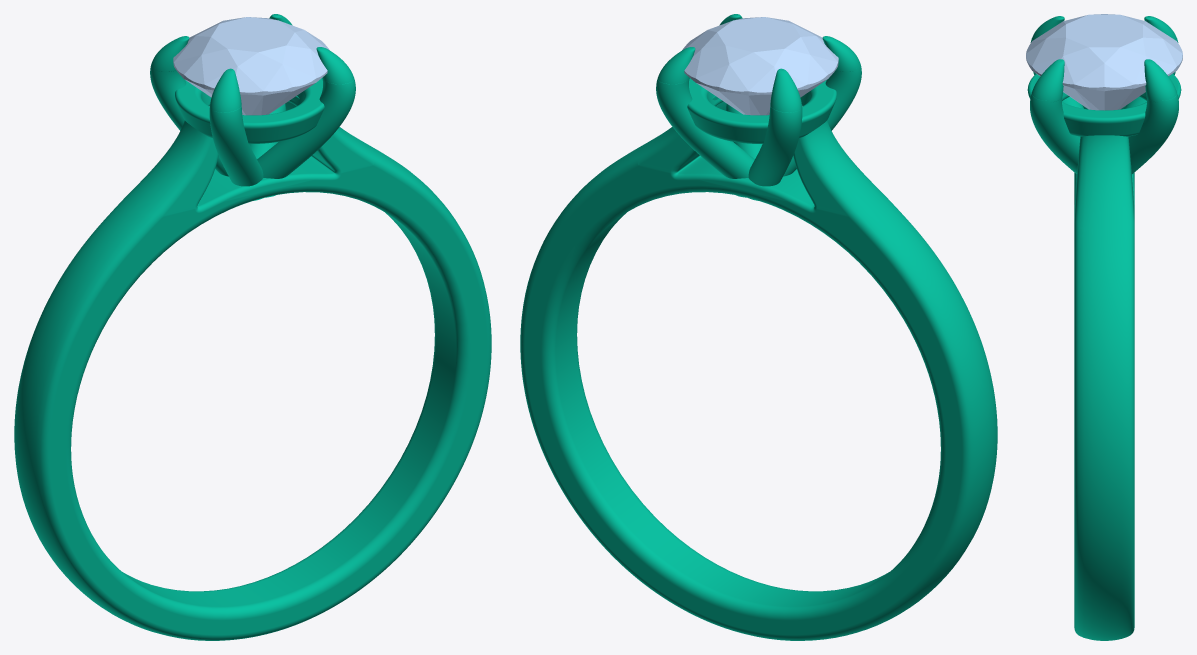
3 views of the same model, side by side, from view 1: azimuth 30°, elevation 25°; view 2: azimuth 150°, elevation 25°; view 3: azimuth 270°, elevation 25° (orthographic).
Visible parts, largest first — view 1: VR367(front).3dm, Diamond_Round; view 2: VR367(front).3dm, Diamond_Round; view 3: VR367(front).3dm, Diamond_Round.
Boxes of the visible parts, bbox=[...] form: VR367(front).3dm: bbox=[14, 14, 491, 640]; Diamond_Round: bbox=[173, 17, 329, 115]; VR367(front).3dm: bbox=[520, 14, 997, 640]; Diamond_Round: bbox=[682, 17, 838, 115]; VR367(front).3dm: bbox=[1027, 16, 1181, 640]; Diamond_Round: bbox=[1026, 14, 1182, 110].
Bounding box in the file's own units: 2.47 × 3.05 × 0.7414.
